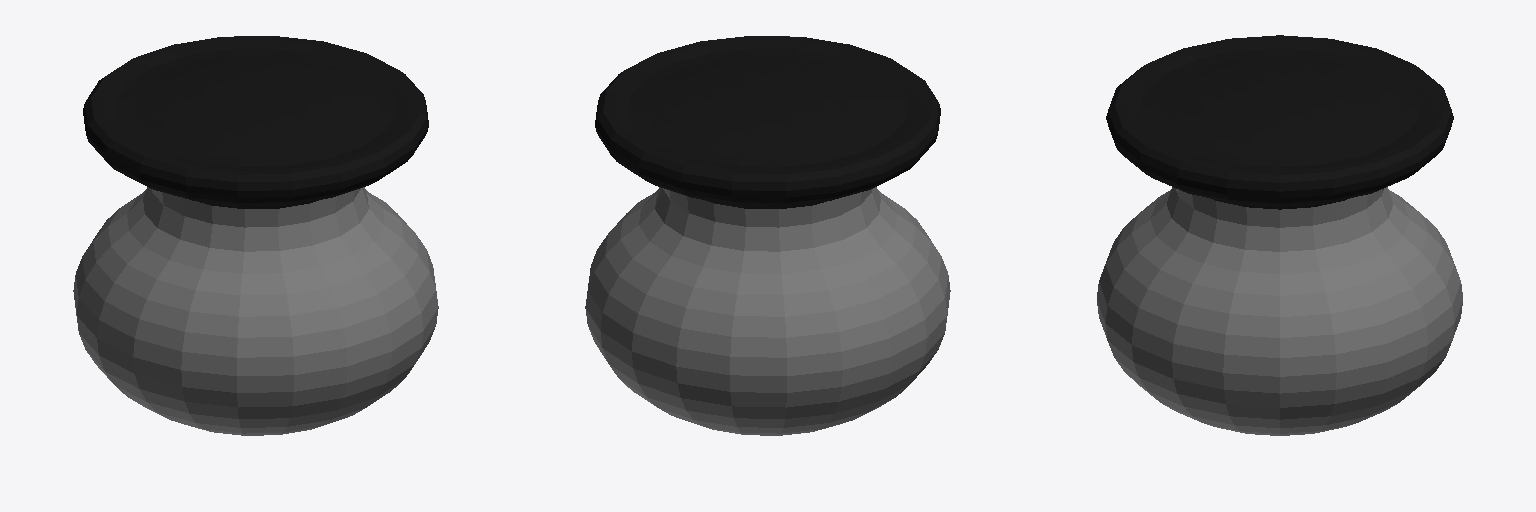
Rendered from LeftThumb.obj.
3 renders of one model, left to right at view 1: azimuth 30°, elevation 25°; view 2: azimuth 150°, elevation 25°; view 3: azimuth 270°, elevation 25°, orthographic.
Parts seen in each view (by area): view 1: pSphere3; view 2: pSphere3; view 3: pSphere3.
Boxes of the visible parts, x1,y1,x2,y2 form: pSphere3: [73, 36, 438, 435]; pSphere3: [585, 36, 950, 435]; pSphere3: [1097, 35, 1462, 435].
Bounding box in the file's own units: 1.98 × 1.87 × 1.98.